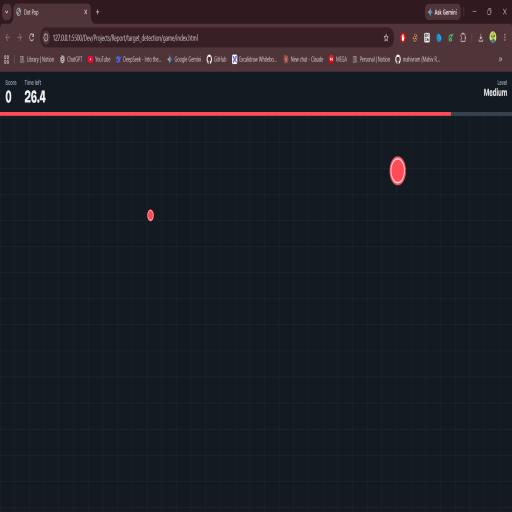Target-Detection: (390, 157, 406, 185), (147, 209, 154, 221)
